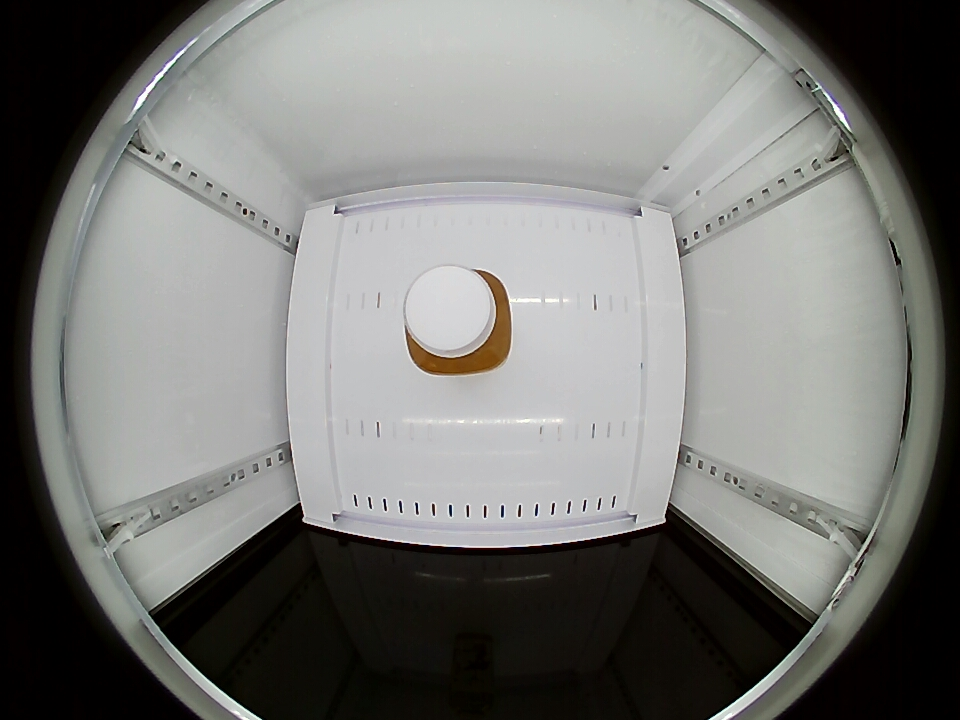chapai: (403, 265, 513, 377)
